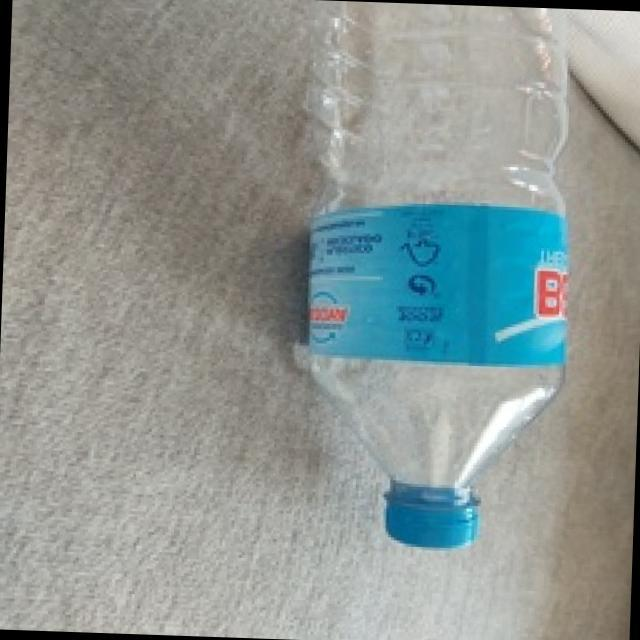good: (276, 0, 584, 566)
